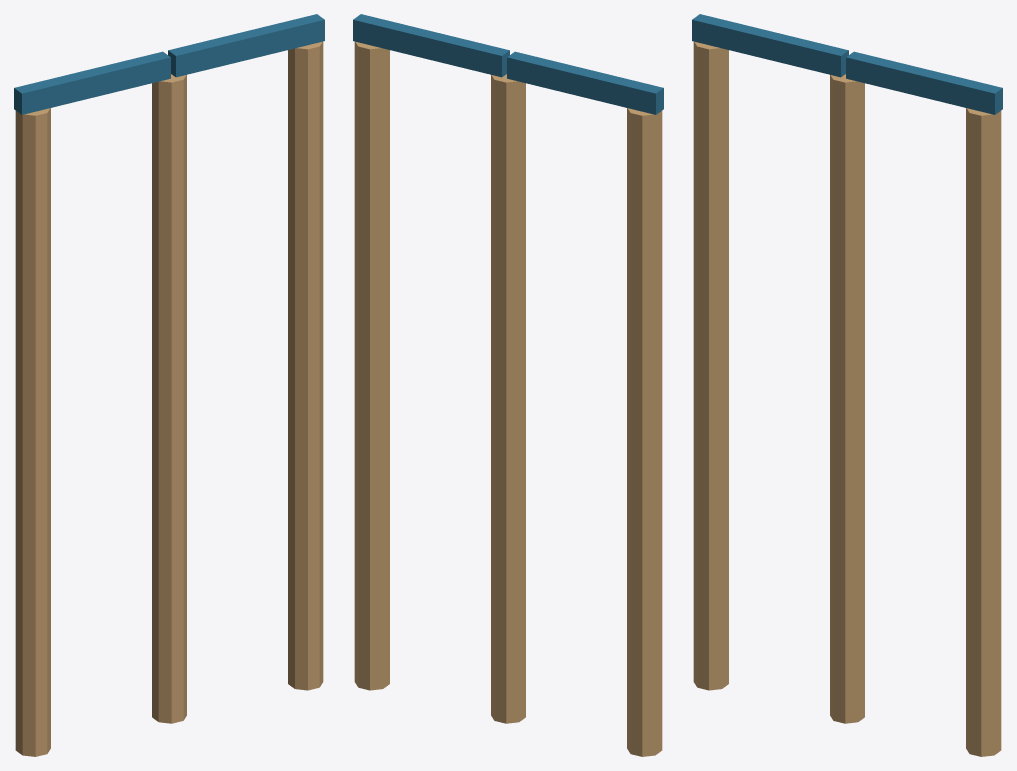
The picture shows the model from 3 angles, left to right: view 1: azimuth 30°, elevation 25°; view 2: azimuth 150°, elevation 25°; view 3: azimuth 330°, elevation 25°; orthographic projection.
Visible parts, largest first — view 1: OctagonalLeftStump, OctagonalRightStump, OctagonalMiddleStump, SeparateLeftTopBail, SeparateRightTopBail; view 2: OctagonalLeftStump, OctagonalRightStump, OctagonalMiddleStump, SeparateLeftTopBail, SeparateRightTopBail; view 3: OctagonalRightStump, OctagonalLeftStump, OctagonalMiddleStump, SeparateRightTopBail, SeparateLeftTopBail.
Part boxes in pixels (x1,y1,x2,y2): OctagonalLeftStump: (15, 108, 50, 756); OctagonalRightStump: (288, 41, 323, 690); OctagonalMiddleStump: (152, 74, 186, 723); SeparateLeftTopBail: (14, 51, 170, 114); SeparateRightTopBail: (168, 14, 324, 77); OctagonalLeftStump: (627, 108, 662, 756); OctagonalRightStump: (354, 41, 389, 690); OctagonalMiddleStump: (491, 74, 525, 723); SeparateLeftTopBail: (507, 51, 663, 114); SeparateRightTopBail: (353, 14, 509, 77); OctagonalRightStump: (966, 108, 1001, 756); OctagonalLeftStump: (693, 41, 728, 690); OctagonalMiddleStump: (830, 74, 864, 723); SeparateRightTopBail: (846, 51, 1002, 114); SeparateLeftTopBail: (692, 14, 848, 77).
Bounding box in the file's own units: 0.356 × 0.744 × 0.0333.
